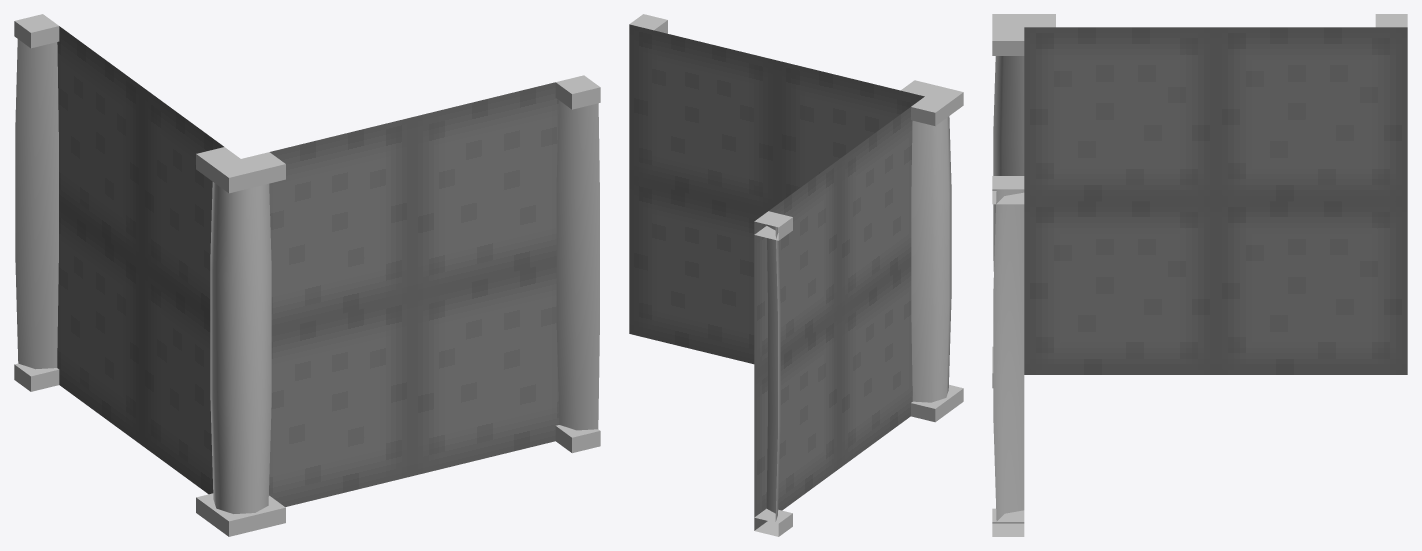
File: wall_corner_bottomleft_32x32.obj
The picture shows the model from 3 angles, left to right: view 1: azimuth 30°, elevation 25°; view 2: azimuth 150°, elevation 25°; view 3: azimuth 270°, elevation 25°; orthographic projection. The views are drawn at different scales.
Visible parts, largest first — view 1: Plane.116_Plane.028; view 2: Plane.116_Plane.028; view 3: Plane.116_Plane.028.
Boxes of the visible parts, x1,y1,x2,y2 form: Plane.116_Plane.028: (14, 14, 600, 536); Plane.116_Plane.028: (629, 14, 963, 536); Plane.116_Plane.028: (992, 14, 1407, 536).
Size of the model in its own units: 69.31 by 64 by 69.31.
